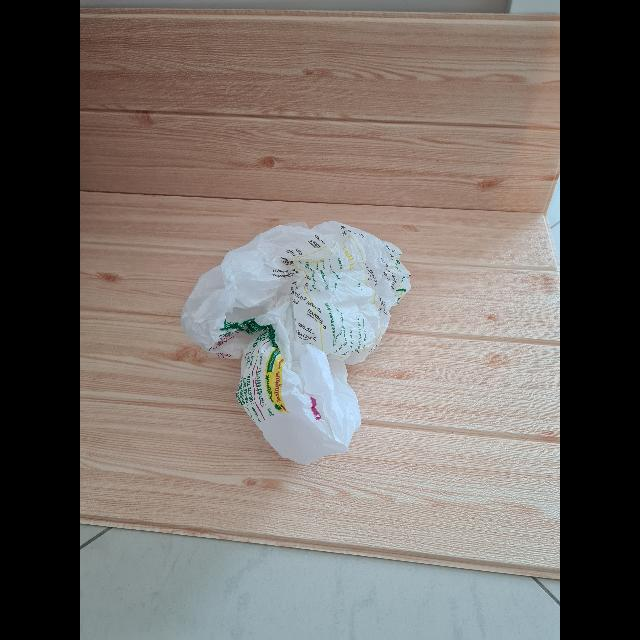plastic_bag: (182, 219, 414, 465)
